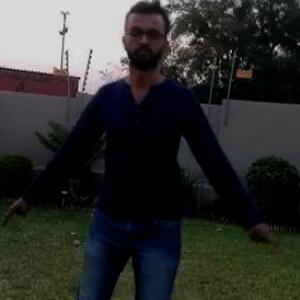land: (2, 25, 286, 299)
